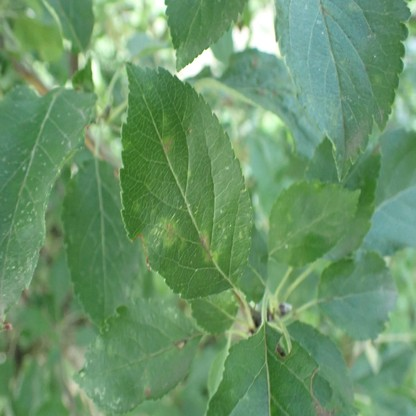powdery_mildew: (0, 256, 34, 315), (346, 123, 368, 157)
scab: (156, 215, 179, 247), (199, 232, 218, 263), (158, 136, 175, 155), (143, 381, 150, 399)
